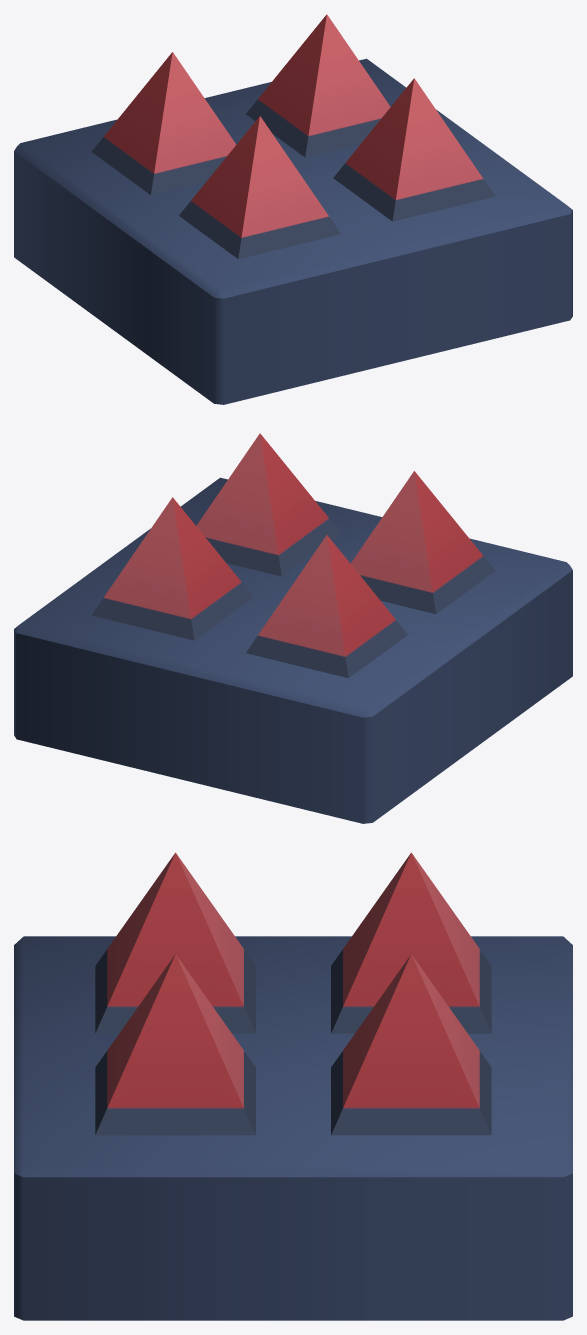
The model's file is G_001_Spine.FBX.
3 renders of one model, top to bottom at view 1: azimuth 30°, elevation 25°; view 2: azimuth 150°, elevation 25°; view 3: azimuth 270°, elevation 25°, orthographic. The views are drawn at different scales.
Visible parts, largest first — view 1: G_001_Spine; view 2: G_001_Spine; view 3: G_001_Spine.
Boxes of the visible parts, box(x1,y1,x2,y2) form: G_001_Spine: box(14, 14, 572, 404); G_001_Spine: box(14, 433, 572, 823); G_001_Spine: box(14, 852, 572, 1320).
Bounding box in the file's own units: 100 × 59.1 × 100.
